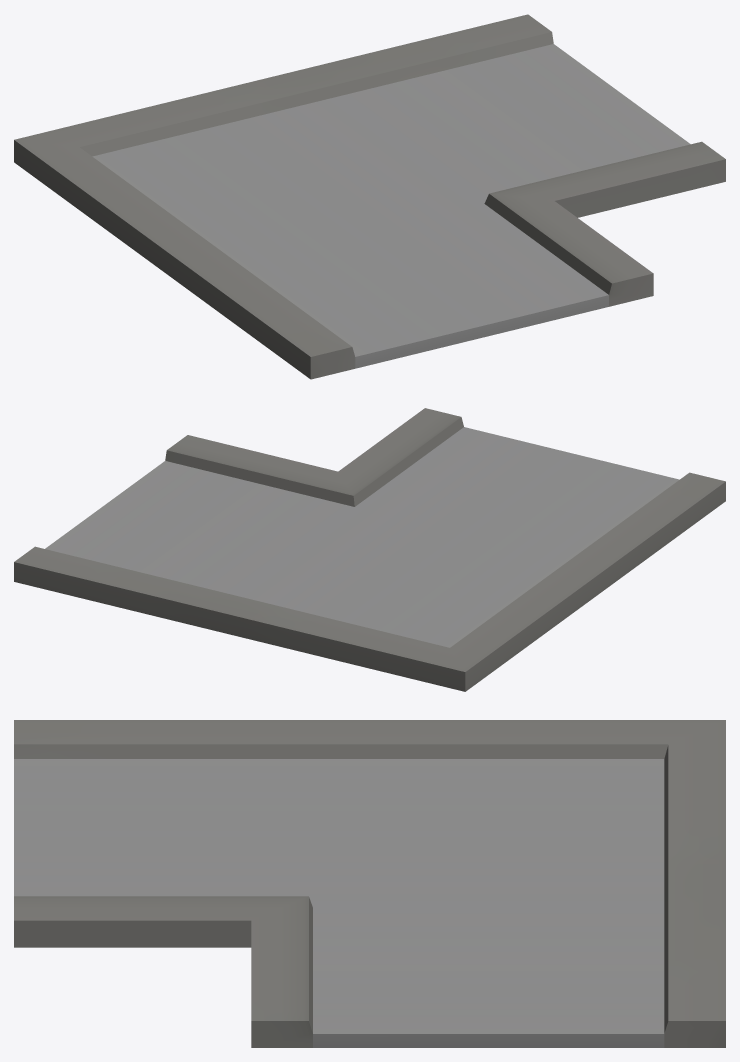
File: cornerPavement.fbx
3 renders of one model, top to bottom at view 1: azimuth 30°, elevation 25°; view 2: azimuth 150°, elevation 25°; view 3: azimuth 270°, elevation 25°, orthographic. The views are drawn at different scales.
Parts seen in each view (by area): view 1: cornerPavement; view 2: cornerPavement; view 3: cornerPavement.
Boxes of the visible parts, x1=… form: cornerPavement: x1=14, y1=14, x2=725, y2=379; cornerPavement: x1=14, y1=408, x2=725, y2=691; cornerPavement: x1=14, y1=720, x2=725, y2=1047.
Size of the model in its own units: 150 by 6.28 by 150.
Materials: 1 (1 with a texture image).
